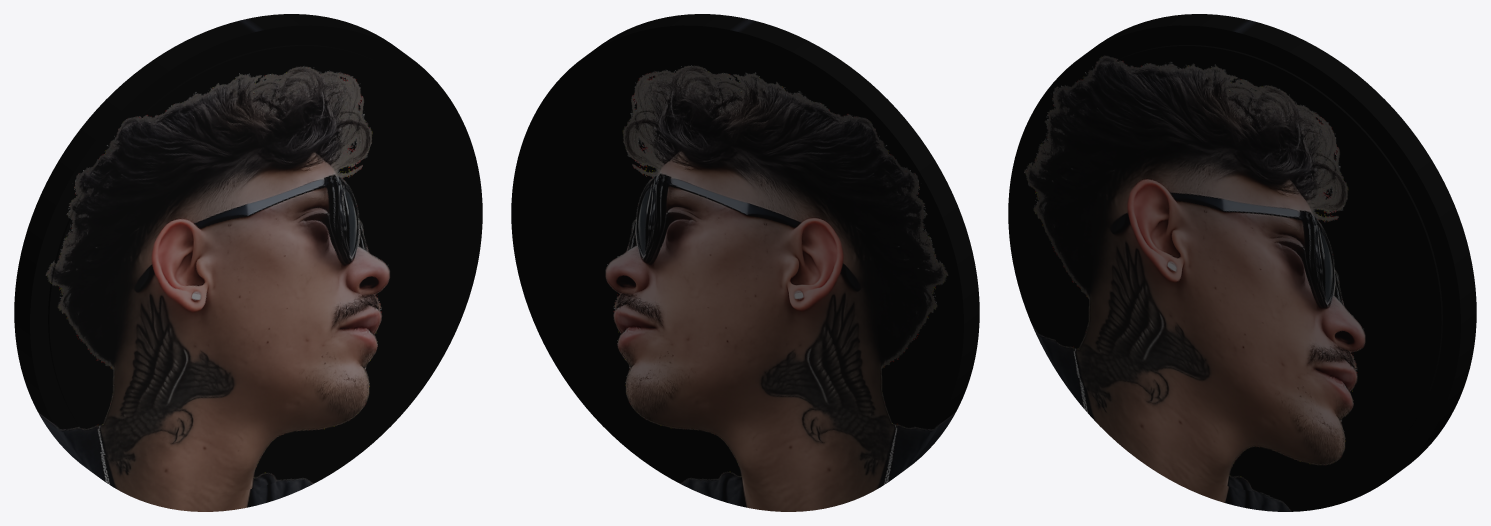
The model's file is disco_3d_premium.glb.
3 renders of one model, left to right at view 1: azimuth 30°, elevation 25°; view 2: azimuth 150°, elevation 25°; view 3: azimuth 330°, elevation 25°, orthographic.
Parts seen in each view (by area): view 1: world; view 2: world; view 3: world.
Part boxes in pixels (x1,y1,x2,y2): world: (14, 14, 482, 511); world: (511, 14, 979, 511); world: (1008, 14, 1476, 511).
Size of the model in its own units: 2 by 2 by 0.13.
1 material, 1 textured.
